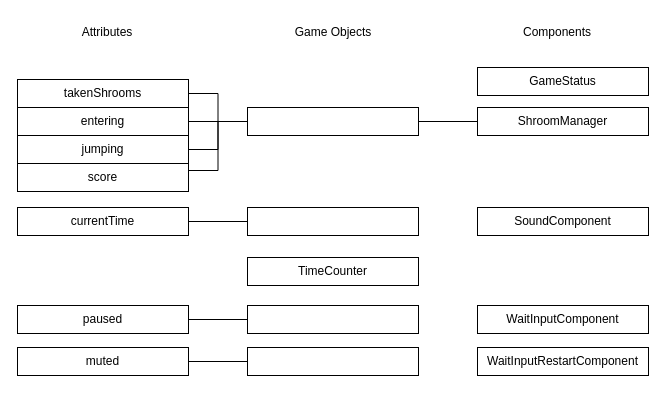
Some shapes in this 666 by 393 pixel diagram are drawn without their labels. Here are the shapes that lost their labels. From the top down, the centre of each, then its label:
At point (332, 121): "Player".
At point (332, 221): "Monster".
At point (332, 319): "PauseButton".
At point (332, 361): "MuteButton".
